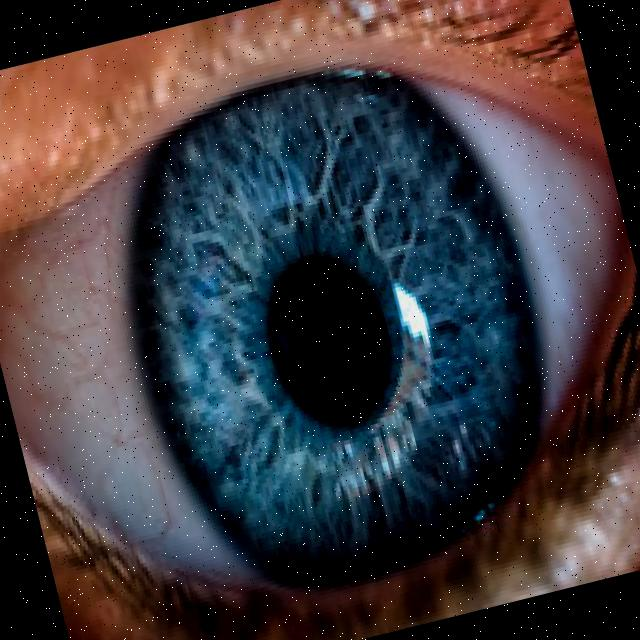Normal: (127, 51, 555, 602)
